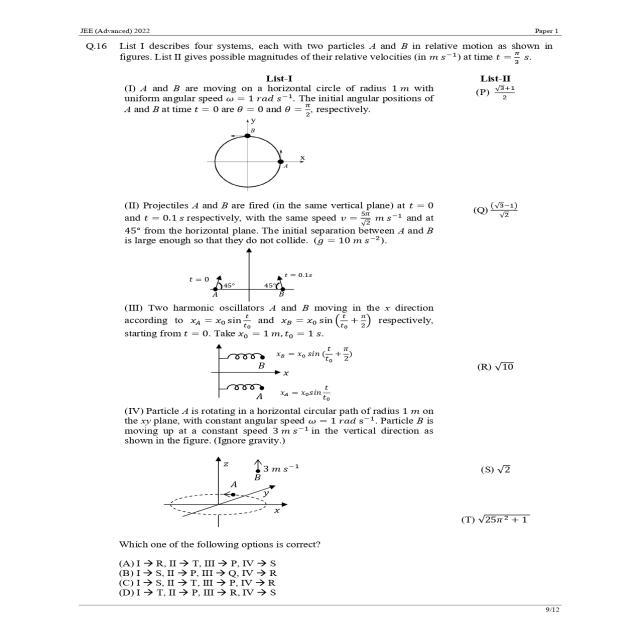Answer_Block: (46, 552, 598, 602)
Question_Block: (48, 34, 595, 554)
Question_Paper_Area: (51, 33, 600, 599)
